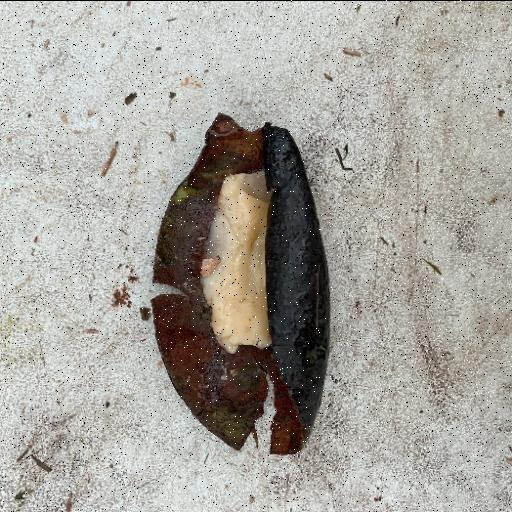Waste: (148, 112, 330, 456)
